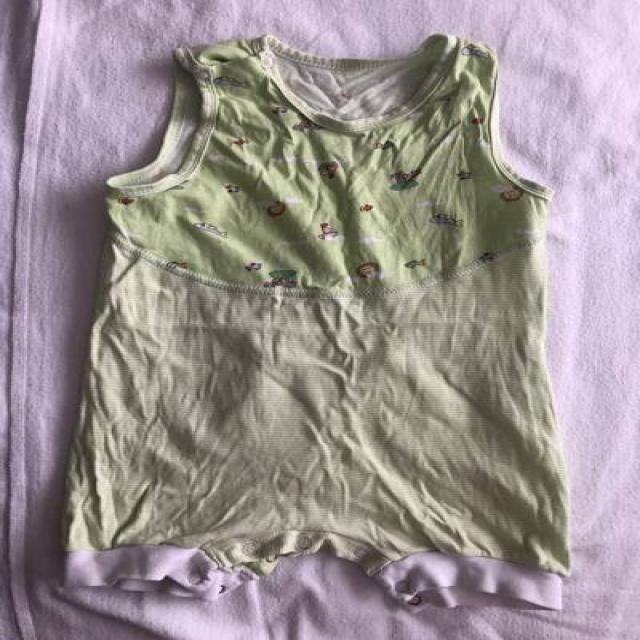Clothes -Biodegradable-: (61, 28, 573, 608)
